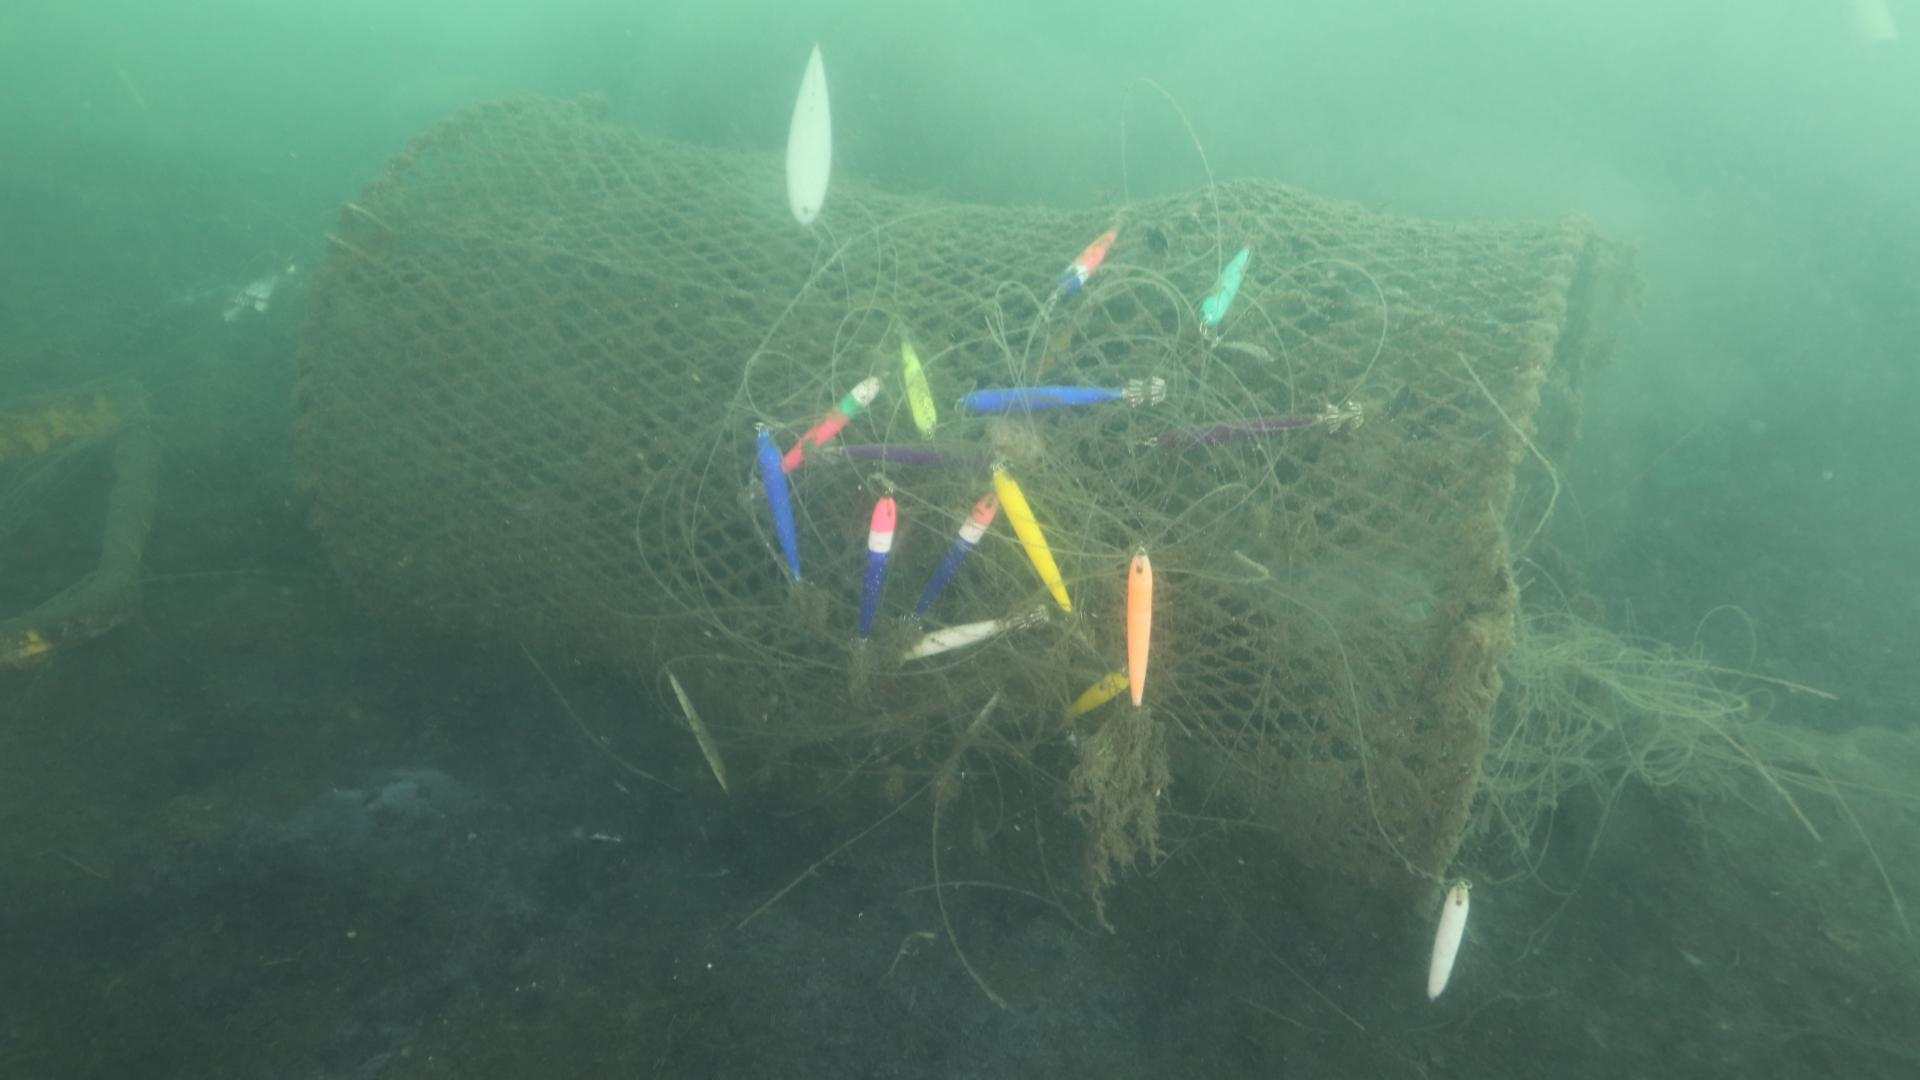spring fish trap: (287, 90, 1593, 919)
